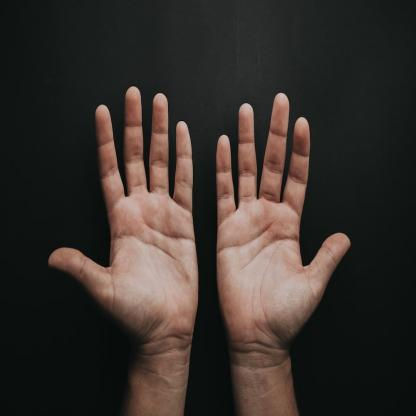palm: (51, 83, 206, 348), (216, 90, 352, 351)
